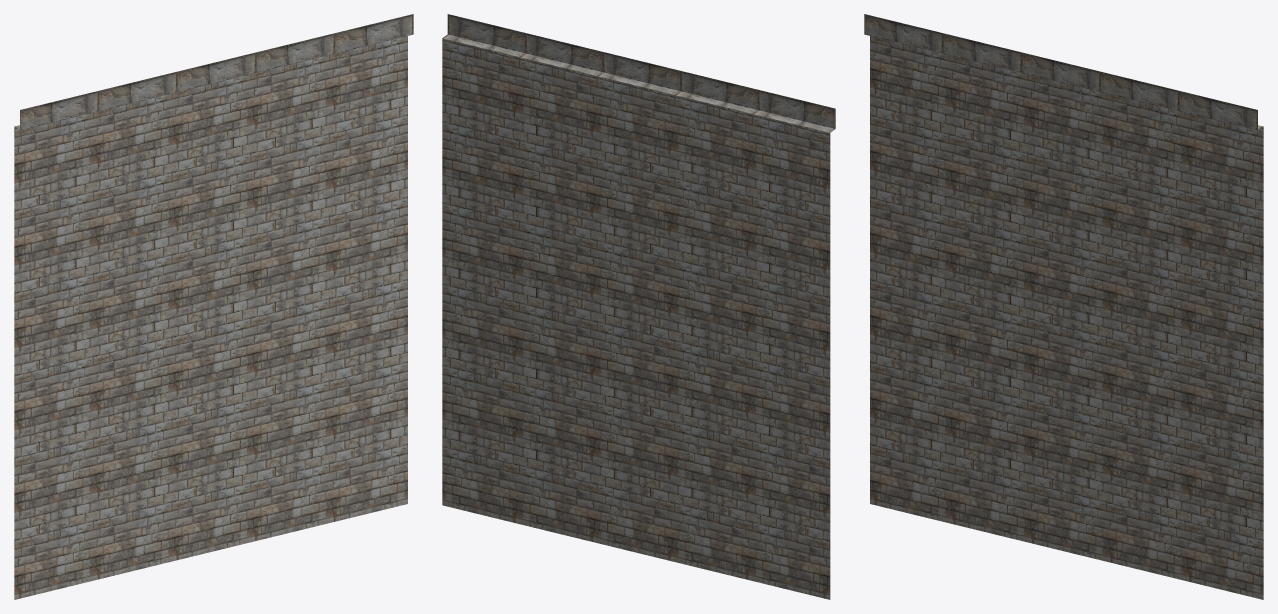
The model's file is WallMoulding.fbx.
The picture shows the model from 3 angles, left to right: view 1: azimuth 30°, elevation 25°; view 2: azimuth 150°, elevation 25°; view 3: azimuth 330°, elevation 25°; orthographic projection.
Parts seen in each view (by area): view 1: Wall_Moulding; view 2: Wall_Moulding; view 3: Wall_Moulding.
Part boxes in pixels (x1,y1,x2,y2): Wall_Moulding: (14, 14, 413, 599); Wall_Moulding: (442, 14, 835, 599); Wall_Moulding: (864, 14, 1263, 599).
Size of the model in its own units: 750 by 900 by 18.43.
